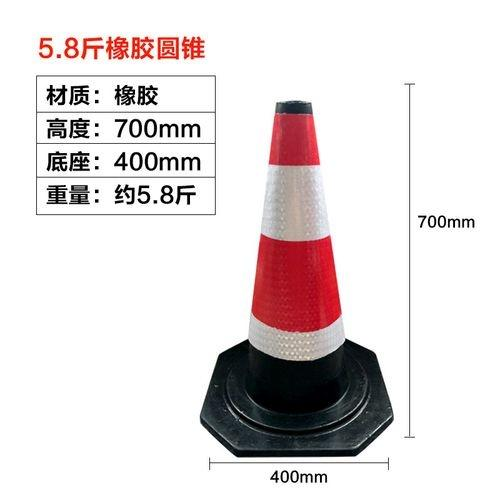cone_barrel: (216, 98, 371, 436)
